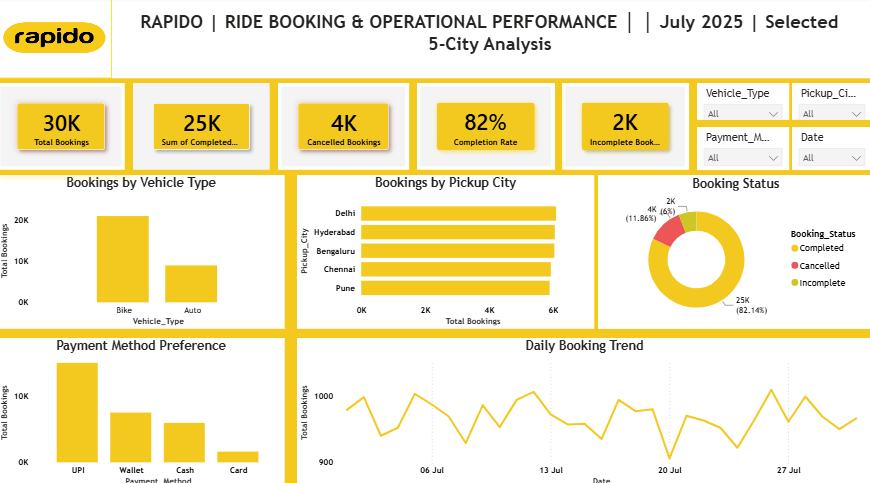

The page's visual inventory and layout, read from the dashboard file:
{"tool":"powerbi","page":{"name":"Executive Overview","canvas":[1280,720],"ordinal":0},"visuals":[{"type":"cardVisual","fields":{"Data":["Daily_Operations.Completed Bookings"]},"box":[0,585.4,240,134.6],"z":0},{"type":"cardVisual","fields":{"Data":["Daily_Operations.Cancelled Bookings"]},"box":[411.2,125.9,191.7,127.3],"z":1000},{"type":"cardVisual","fields":{"Data":["Daily_Operations.Incomplete Bookings"]},"box":[826.8,125.9,185.9,127.3],"z":2000},{"type":"cardVisual","fields":{"Data":["Daily_Operations.Completion Rate"]},"box":[614.6,125.9,202,127.3],"z":3000},{"type":"lineChart","title":"Daily Booking Trend","fields":{"Category":["Dim_Date.Date"],"Y":["Daily_Operations.Total Bookings"]},"box":[439,499,841.5,221],"z":4000},{"type":"donutChart","title":"Booking Status","fields":{"Category":["Fact_Bookings.Booking_Status"],"Y":["Daily_Operations.Total Bookings"]},"box":[879.5,260.5,401,225.4],"z":5000},{"type":"clusteredColumnChart","title":"Bookings by Vehicle Type","fields":{"Category":["Fact_Bookings.Vehicle_Type"],"Y":["Daily_Operations.Total Bookings"]},"box":[0,260.5,421.5,225.4],"z":6000},{"type":"clusteredColumnChart","title":"Payment Method Preference","fields":{"Category":["Fact_Bookings.Payment_Method"],"Y":["Daily_Operations.Total Bookings"]},"box":[0,499,421.5,221],"z":7000},{"type":"barChart","title":"Bookings by Pickup City","fields":{"Category":["Fact_Bookings.Pickup_City"],"Y":["Daily_Operations.Total Bookings"]},"box":[439,260.5,434.6,225.4],"z":8000},{"type":"cardVisual","title":"Total Bookings","fields":{"Data":["Daily_Operations.Total Bookings"]},"box":[0,125.9,187.3,127.3],"z":9000},{"type":"slicer","fields":{"Values":["Dim_Date.Date"]},"box":[1163.4,190.2,117.1,62.9],"z":10000},{"type":"slicer","fields":{"Values":["Fact_Bookings.Vehicle_Type"]},"box":[1024.4,125.9,134.6,54.1],"z":11000},{"type":"slicer","fields":{"Values":["Fact_Bookings.Pickup_City"]},"box":[1163.4,125.9,117.1,54.1],"z":12000},{"type":"slicer","fields":{"Values":["Fact_Bookings.Payment_Method"]},"box":[1024.4,190.2,134.6,62.9],"z":13000},{"type":"textbox","box":[168.3,14.6,1112.2,103.9],"z":14000},{"type":"image","box":[0,14.6,168.3,103.9],"z":15000},{"type":"cardVisual","fields":{"Data":["Sum(Daily_Operations.Completed_Bookings)"]},"box":[199,125.9,200.5,127.3],"z":16000}]}

Visuals, with their boxes in screenshot pixels (x1, y1, x2, y2), scaled from the page's 1280x720 canvas onto the 870x483 screenshot:
cardVisual - Daily_Operations.Completed Bookings: bbox(0, 393, 163, 482)
cardVisual - Daily_Operations.Cancelled Bookings: bbox(279, 84, 410, 170)
cardVisual - Daily_Operations.Incomplete Bookings: bbox(562, 84, 688, 170)
cardVisual - Daily_Operations.Completion Rate: bbox(418, 84, 555, 170)
"Daily Booking Trend" lineChart: bbox(298, 335, 869, 482)
"Booking Status" donutChart: bbox(598, 175, 869, 326)
"Bookings by Vehicle Type" clusteredColumnChart: bbox(0, 175, 286, 326)
"Payment Method Preference" clusteredColumnChart: bbox(0, 335, 286, 482)
"Bookings by Pickup City" barChart: bbox(298, 175, 594, 326)
"Total Bookings" cardVisual: bbox(0, 84, 127, 170)
slicer - Dim_Date.Date: bbox(791, 128, 869, 170)
slicer - Fact_Bookings.Vehicle_Type: bbox(696, 84, 788, 121)
slicer - Fact_Bookings.Pickup_City: bbox(791, 84, 869, 121)
slicer - Fact_Bookings.Payment_Method: bbox(696, 128, 788, 170)
textbox: bbox(114, 10, 869, 79)
image: bbox(0, 10, 114, 79)
cardVisual - Sum(Daily_Operations.Completed_Bookings): bbox(135, 84, 272, 170)
